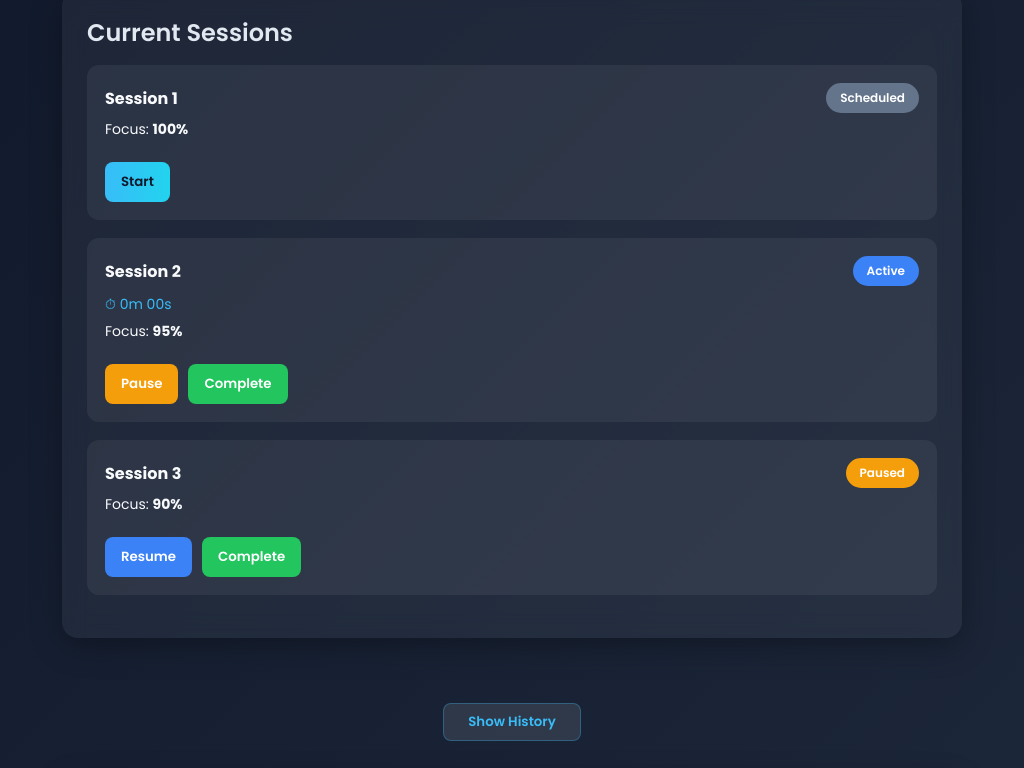
Scenario: App Component › modal closes on Cancel
(page scrolled)
Expected: the text "Session 2" is shown, 105,258 -> 181,284
Click the button "Pause" at (142, 384), box 105,364 -> 178,404
(page scrolled)
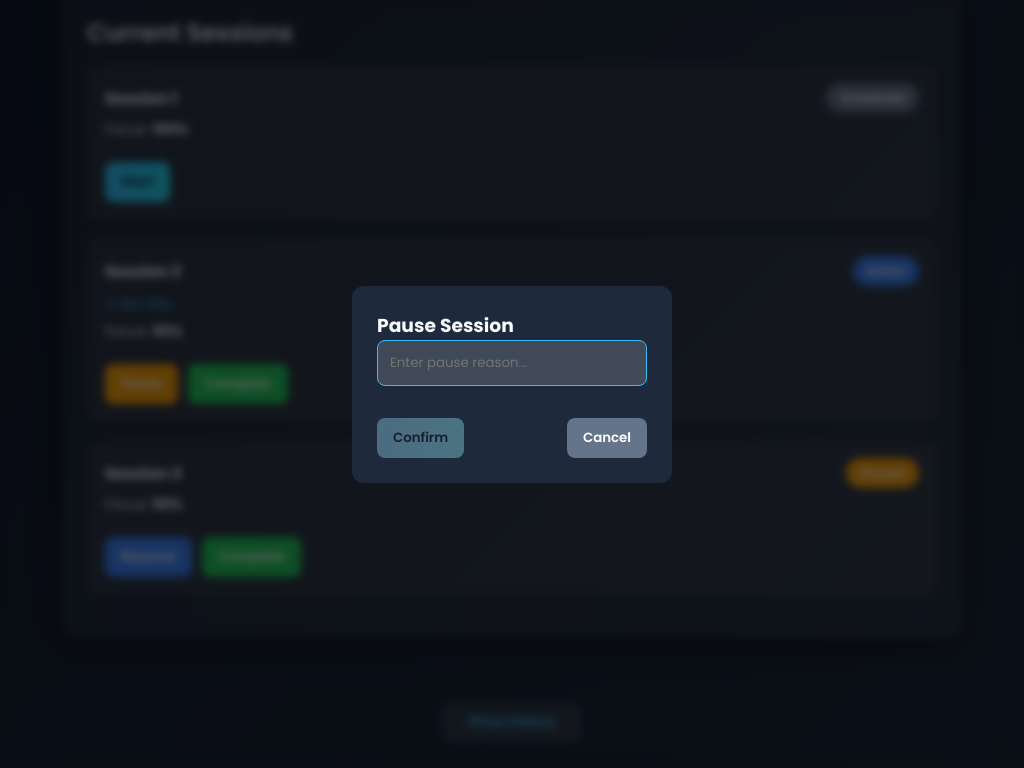
Click the button "Cancel" at (607, 438), box 567,418 -> 647,458
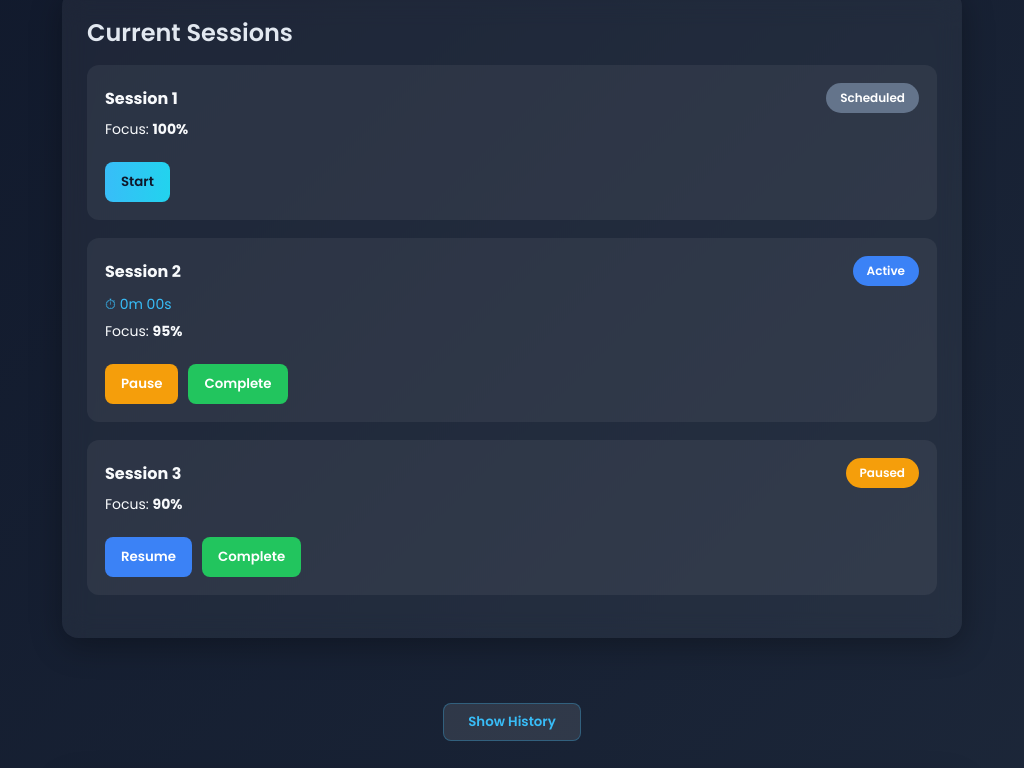
Expected: the heading "Pause Session" is gone
